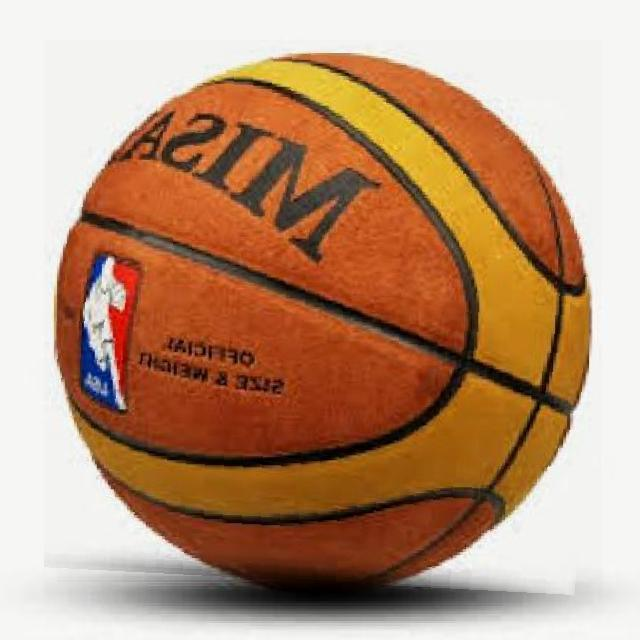Ball: (44, 40, 602, 595)
